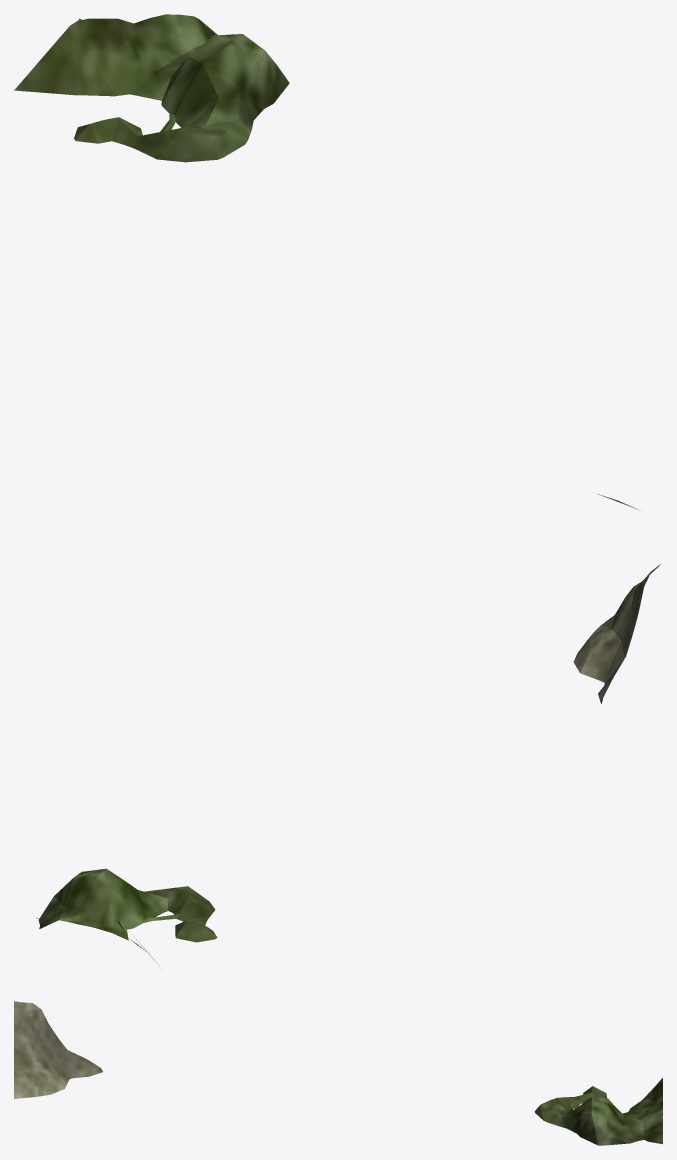
The picture shows the model from 3 angles, top to bottom: view 1: azimuth 30°, elevation 25°; view 2: azimuth 150°, elevation 25°; view 3: azimuth 270°, elevation 25°; orthographic projection. The views are drawn at different scales.
Bounding box in the file's own units: 0.7948 × 0.3548 × 2.95.
1 material, 1 textured.
